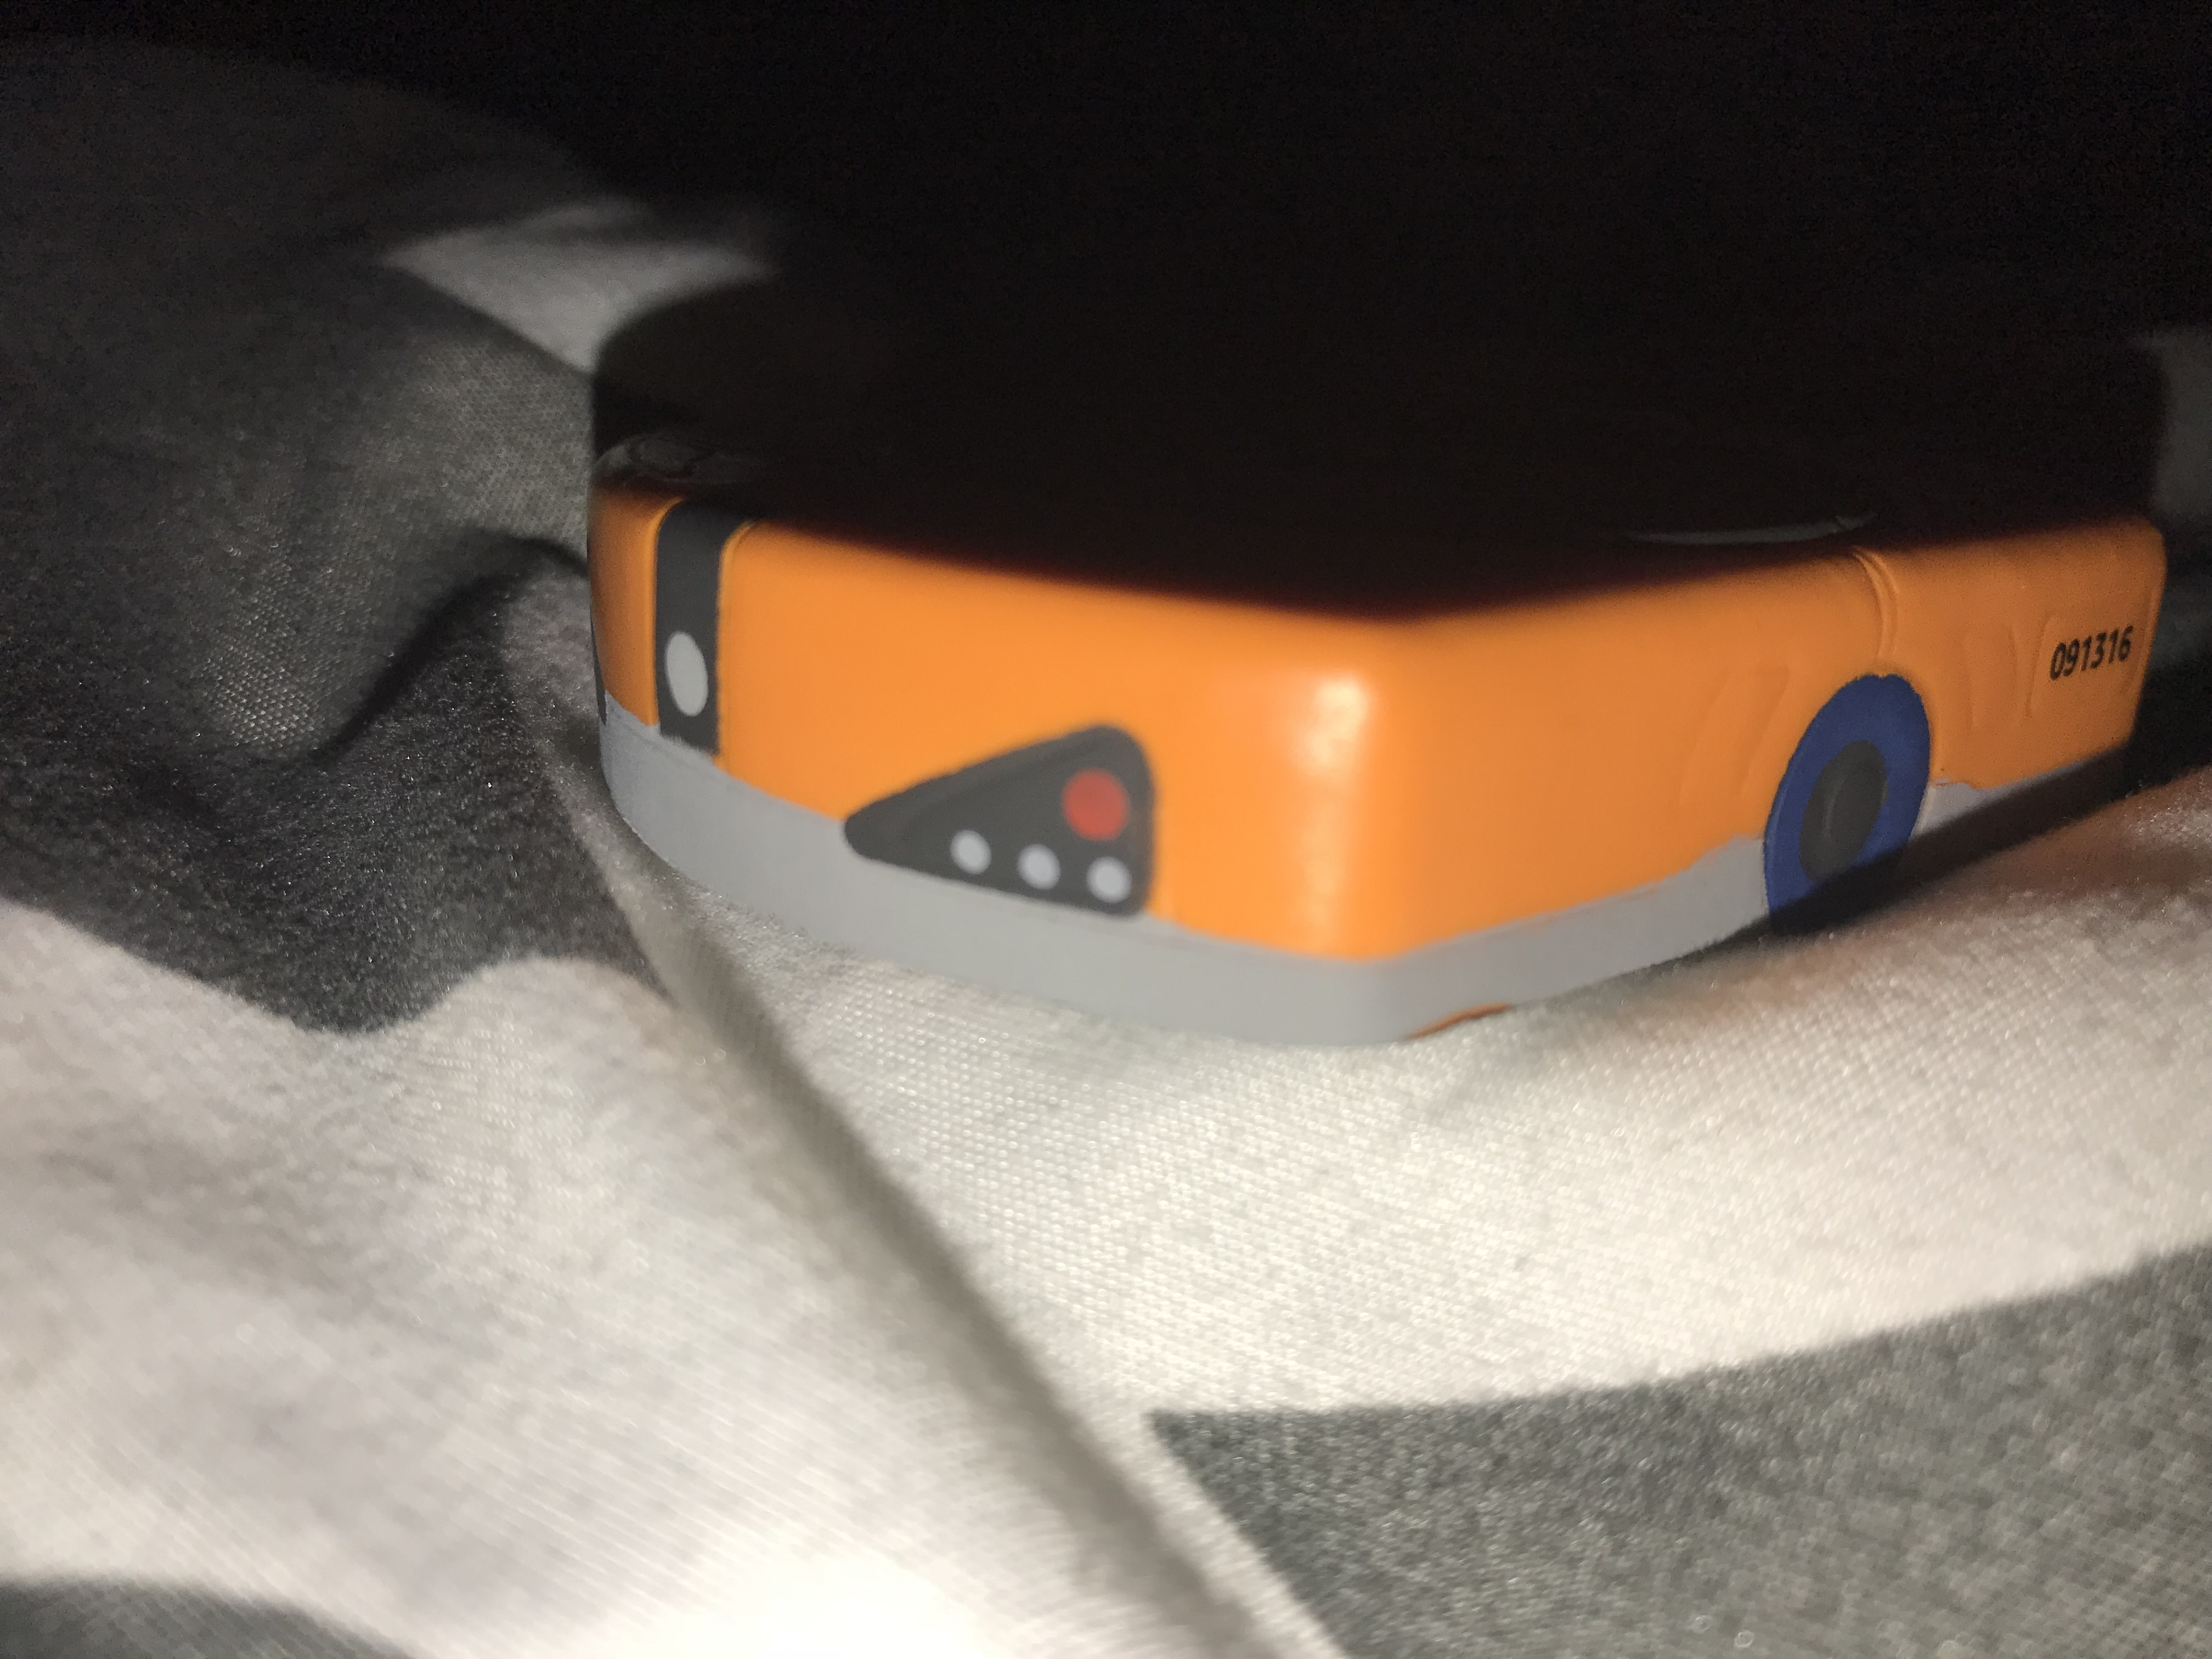amazon_bot: (526, 389, 2210, 1080)
